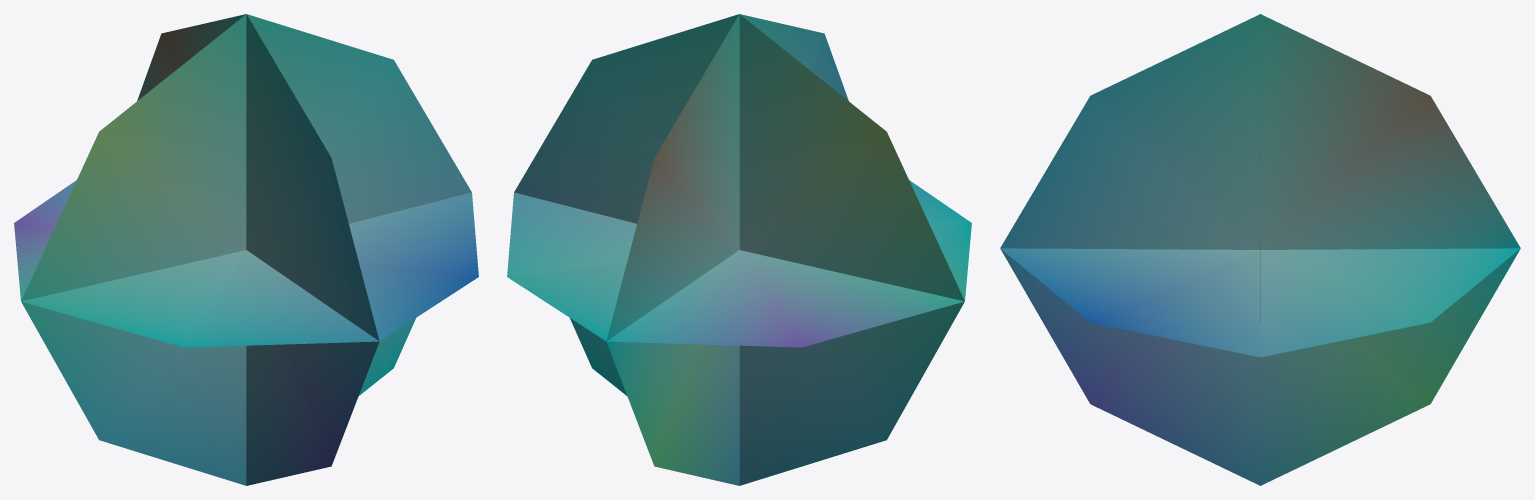
The picture shows the model from 3 angles, left to right: view 1: azimuth 30°, elevation 25°; view 2: azimuth 150°, elevation 25°; view 3: azimuth 270°, elevation 25°; orthographic projection.
Visible parts, largest first — view 1: starcloud48; view 2: starcloud48; view 3: starcloud48.
Boxes of the visible parts, box(x1,y1,x2,y2) form: starcloud48: box(14, 14, 478, 485); starcloud48: box(507, 14, 971, 485); starcloud48: box(1000, 14, 1520, 485).
Bounding box in the file's own units: 0.5 × 0.5 × 0.5.
